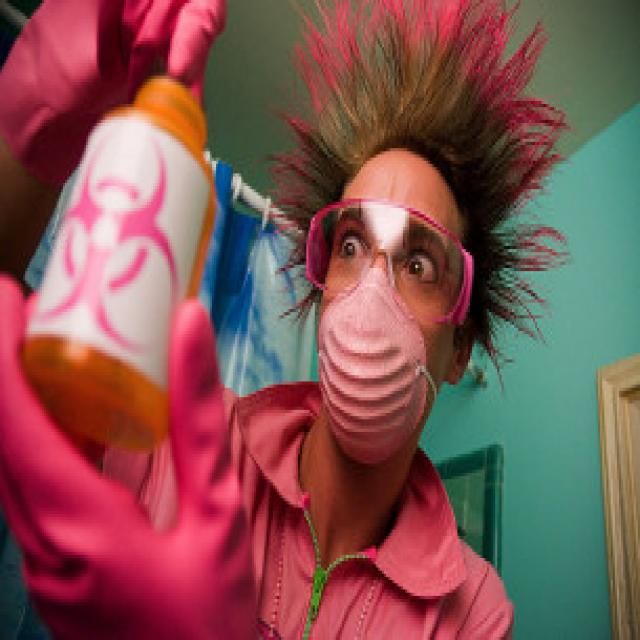mask: (319, 146, 453, 458)
